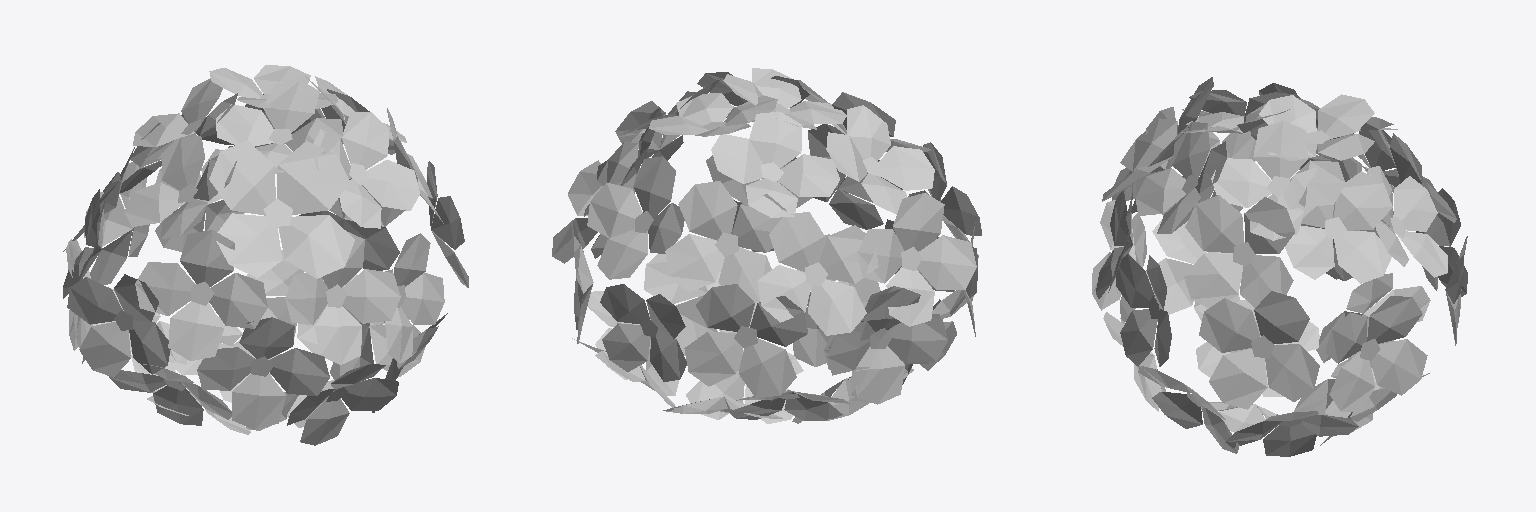
The model's file is FlowerBallNew.obj.
3 views of the same model, side by side, from view 1: azimuth 30°, elevation 25°; view 2: azimuth 150°, elevation 25°; view 3: azimuth 270°, elevation 25° (orthographic).
Parts seen in each view (by area): view 1: group6_group2_polySurface1; view 2: group6_group2_polySurface1; view 3: group6_group2_polySurface1.
Part boxes in pixels (x1,y1,x2,y2): group6_group2_polySurface1: (63,65,468,445); group6_group2_polySurface1: (552,68,981,423); group6_group2_polySurface1: (1092,77,1467,456).
Size of the model in its own units: 159 by 126 by 130.